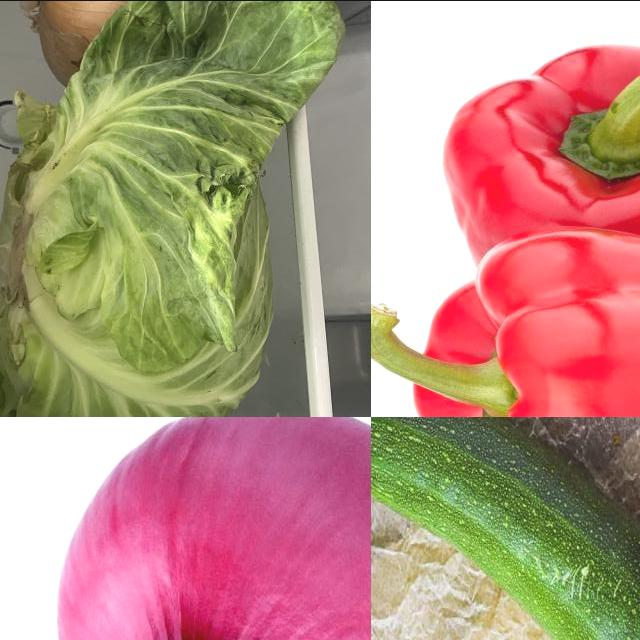bell_pepper: (372, 229, 640, 417), (441, 49, 640, 250)
cabbage: (1, 1, 348, 417)
onion: (54, 417, 372, 640), (18, 1, 157, 93)
zucchini: (372, 417, 640, 640)
